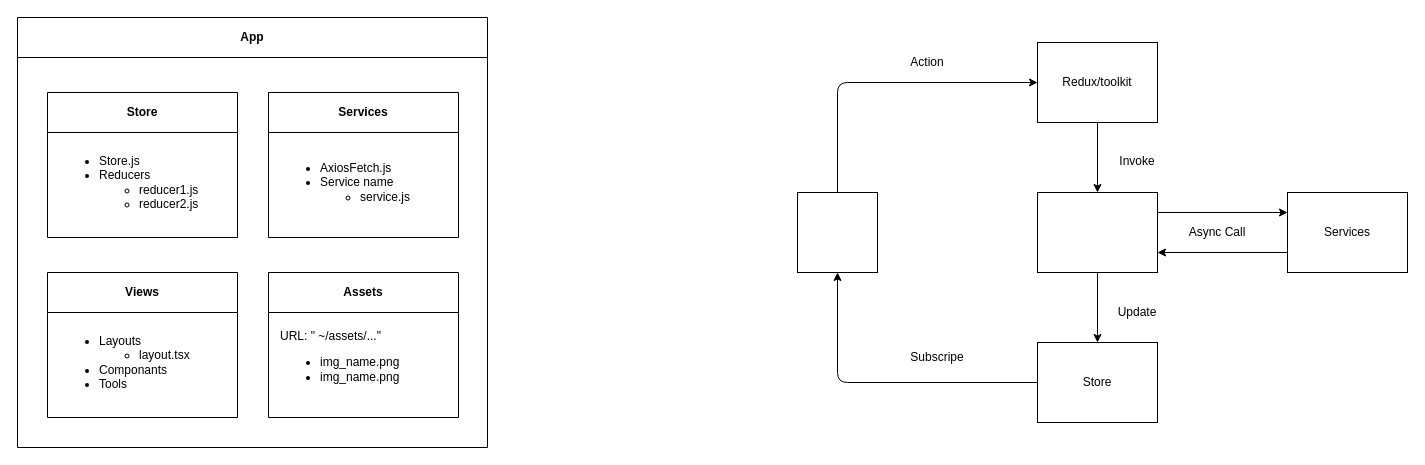
The diagram is 1425 pixels wide and 465 high, and some of its shapes have lost their labels. Here are the shapes that lost their labels. From the top down, the centre of each, then its label:
At (837,232): "UI System".
At (1097,232): "Reducer".
